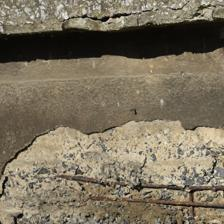Crack: (68, 90, 156, 103), (192, 116, 224, 140)
